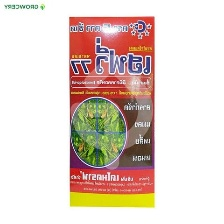insecticide: (67, 13, 157, 195)
